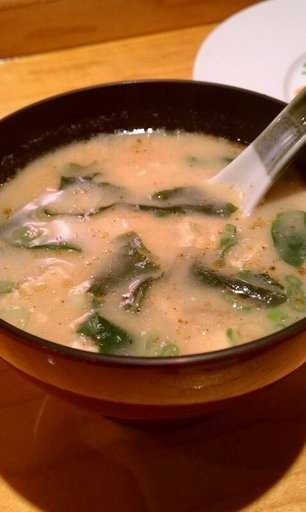soup: (1, 82, 305, 347)
